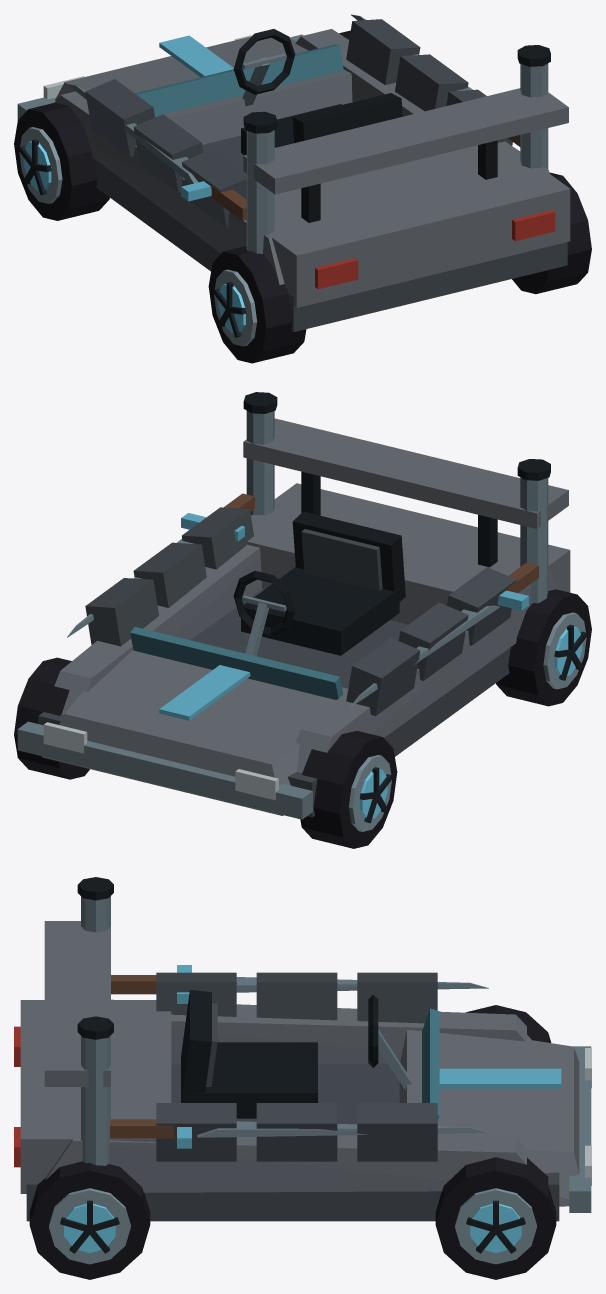
Rendered from kart.glb.
The picture shows the model from 3 angles, top to bottom: view 1: azimuth 30°, elevation 25°; view 2: azimuth 150°, elevation 25°; view 3: azimuth 270°, elevation 25°; orthographic projection. The views are drawn at different scales.
Parts seen in each view (by area): view 1: identity-sports-car-sports-car-road-car-body, identity-sports-car-motif-armor, wheel-front-left, wheel-rear-left, identity-sports-car-motif-exhaust, identity-sports-car-driver-cockpit, wheel-rear-right, identity-sports-car-motif-swords; view 2: identity-sports-car-sports-car-road-car-body, identity-sports-car-motif-armor, identity-sports-car-driver-cockpit, wheel-front-left, wheel-rear-left, identity-sports-car-motif-exhaust, wheel-front-right, identity-sports-car-motif-swords; view 3: identity-sports-car-sports-car-road-car-body, identity-sports-car-motif-armor, wheel-front-right, identity-sports-car-driver-cockpit, wheel-rear-right, identity-sports-car-motif-exhaust, identity-sports-car-motif-swords, wheel-front-left.
Boxes of the visible parts, <box> form: identity-sports-car-sports-car-road-car-body: <box>17,29,570,331</box>; identity-sports-car-motif-armor: <box>85,19,512,227</box>; wheel-front-left: <box>14,102,109,220</box>; wheel-rear-left: <box>208,246,306,363</box>; identity-sports-car-motif-exhaust: <box>243,45,550,253</box>; identity-sports-car-driver-cockpit: <box>233,29,402,155</box>; wheel-rear-right: <box>512,172,591,294</box>; identity-sports-car-motif-swords: <box>67,14,520,220</box>; identity-sports-car-sports-car-road-car-body: <box>17,418,570,819</box>; identity-sports-car-motif-armor: <box>85,507,516,716</box>; identity-sports-car-driver-cockpit: <box>233,511,405,656</box>; wheel-front-left: <box>300,730,397,848</box>; wheel-rear-left: <box>496,589,591,706</box>; identity-sports-car-motif-exhaust: <box>243,392,550,603</box>; wheel-front-right: <box>14,657,89,779</box>; identity-sports-car-motif-swords: <box>67,493,538,706</box>; identity-sports-car-sports-car-road-car-body: <box>14,921,591,1221</box>; identity-sports-car-motif-armor: <box>156,972,437,1161</box>; wheel-front-right: <box>435,1157,556,1279</box>; identity-sports-car-driver-cockpit: <box>181,990,412,1118</box>; wheel-rear-right: <box>29,1161,150,1279</box>; identity-sports-car-motif-exhaust: <box>77,877,113,1165</box>; identity-sports-car-motif-swords: <box>110,965,488,1148</box>; wheel-front-left: <box>466,1005,551,1042</box>.
Bounding box in the file's own units: 2.07 × 1.33 × 2.88.
